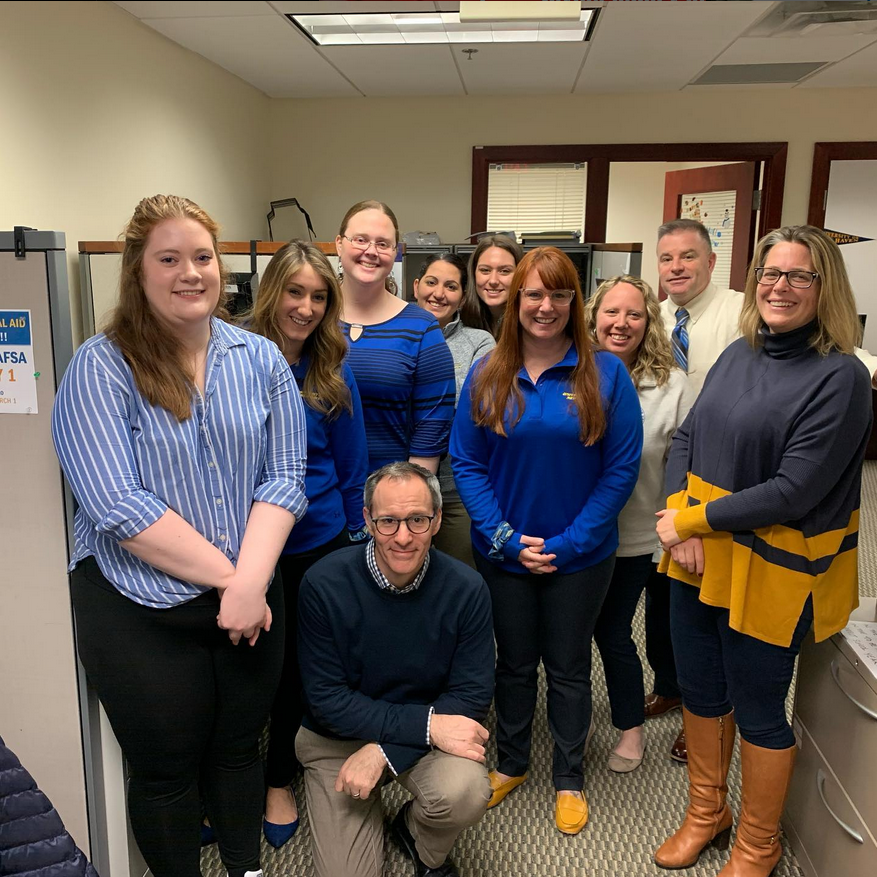Staff: (104, 170, 840, 621)
